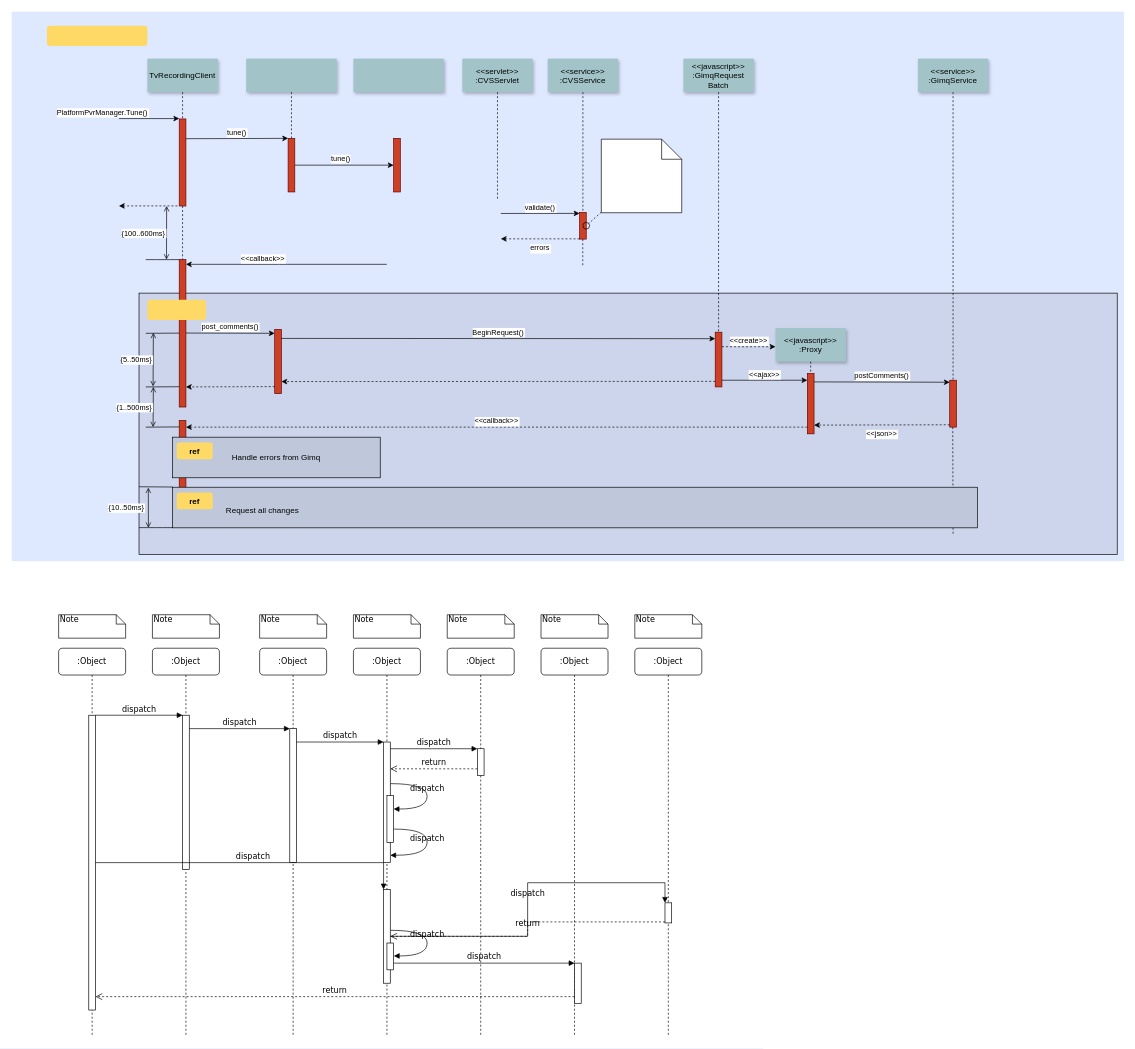
Some shapes in this 1135 by 1049 pixel diagram are drawn without their labels. Each missing label, with the centre of its shape:
"- user validation - password check" belongs at pixel 641 175.
"opt" belongs at pixel 176 309.
"Pvr Tune" belongs at pixel 97 35.
"TvInputManager.Session" belongs at pixel 291 76.
"TvInputManagerService" belongs at pixel 399 76.
